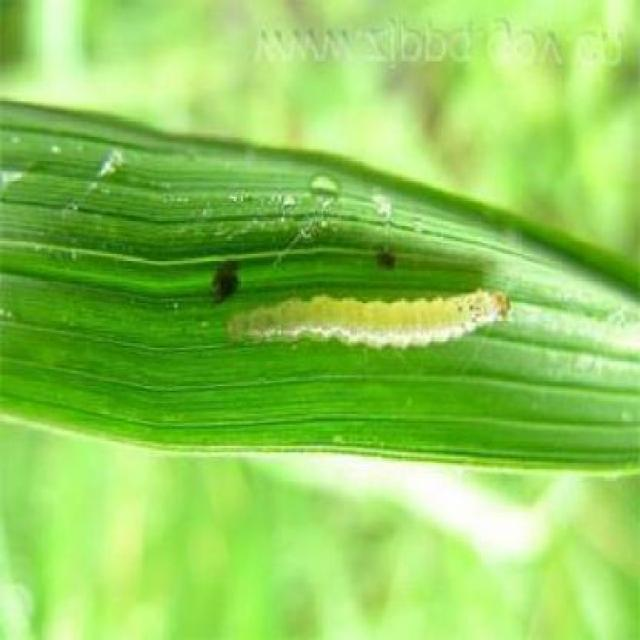leaf-folder: (206, 257, 519, 406)
